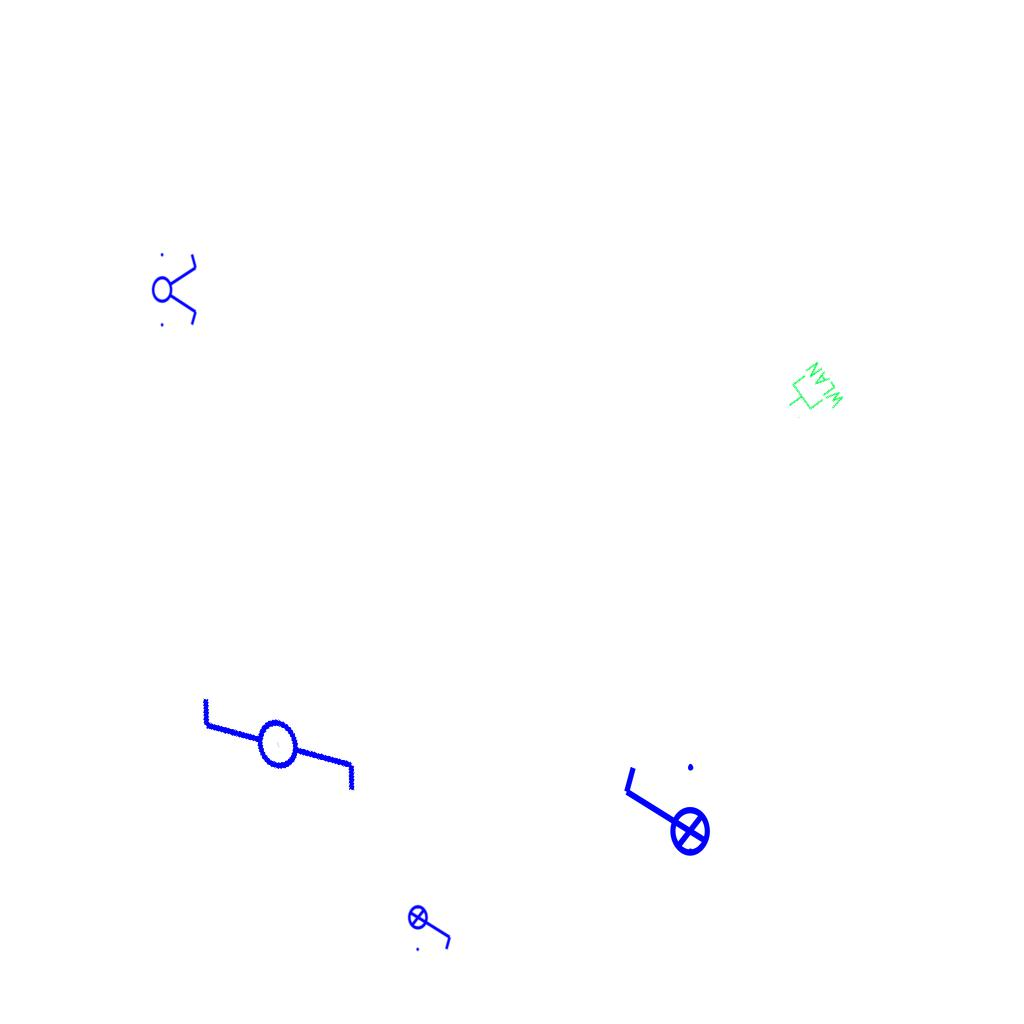Ausschalter_beleuchtet: (616, 758, 712, 870), (407, 898, 455, 954)
Serienschalter: (151, 247, 199, 331)
WLAN: (775, 358, 849, 432)
Wechselschalter: (185, 639, 370, 833)
